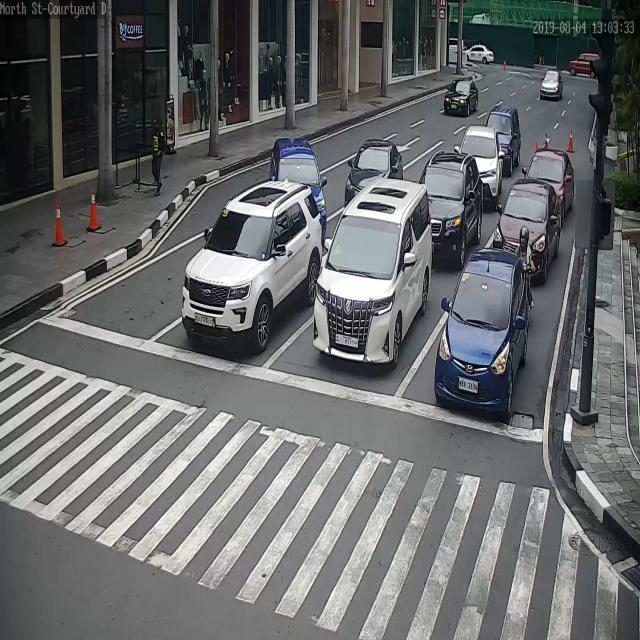car: (181, 178, 326, 349), (438, 247, 528, 413), (489, 179, 562, 284), (418, 155, 486, 266), (270, 138, 328, 221), (454, 124, 503, 203), (524, 148, 576, 212), (346, 140, 403, 197), (481, 104, 520, 167), (443, 78, 480, 117), (569, 52, 599, 78), (539, 71, 563, 100), (466, 44, 497, 66)
jeepney: (515, 225, 534, 319)
van: (314, 179, 434, 364)
